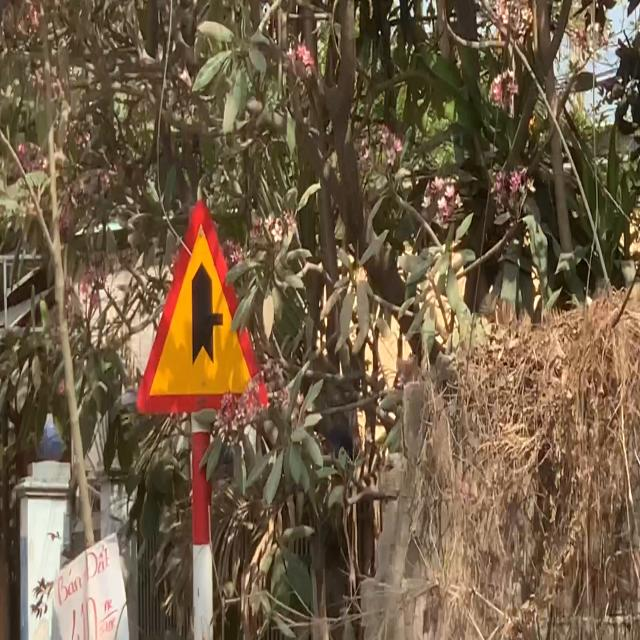Giao voi duong khong uu tien: (125, 188, 279, 426)
